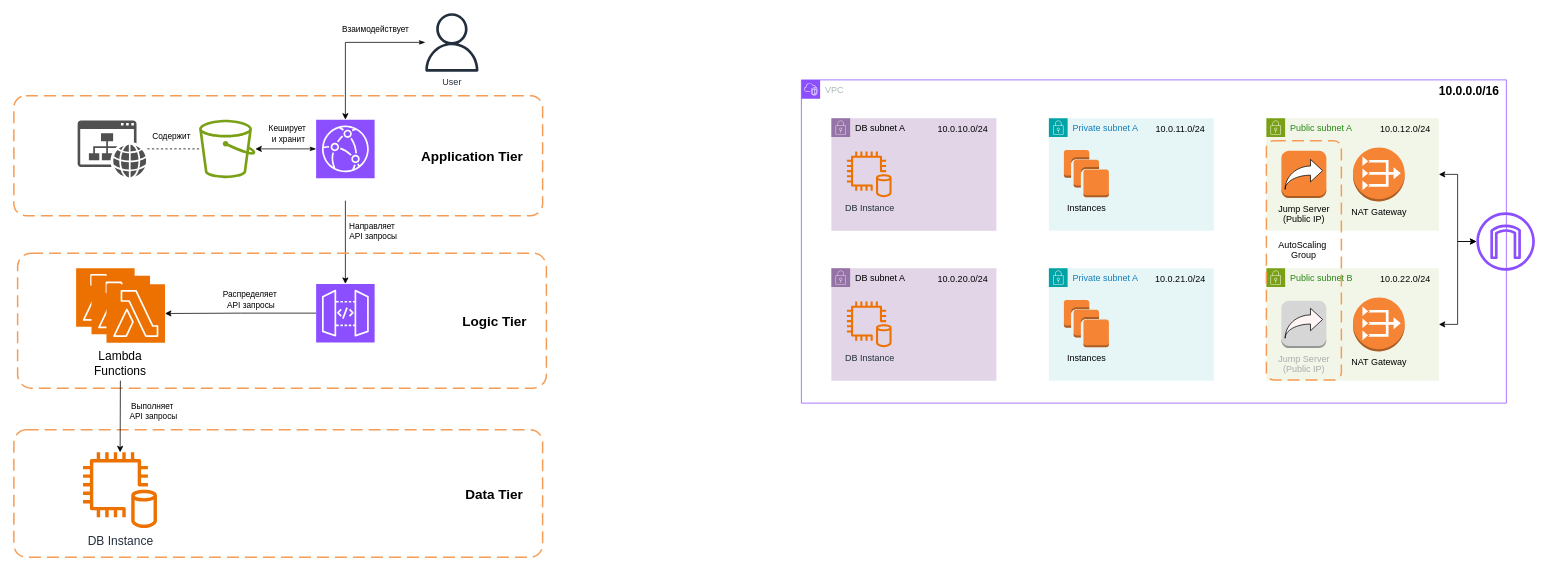
This 1561x571 diagram has some shape labels left out. The centre of each missing label's shape, as x and y in pixels:
"API Gateway" goes at (345,312).
"CloudFront" goes at (345,148).
"Internet Gateway" goes at (1505,241).
"S3 Bucket" goes at (227,148).
"Website Assets" goes at (111,148).
